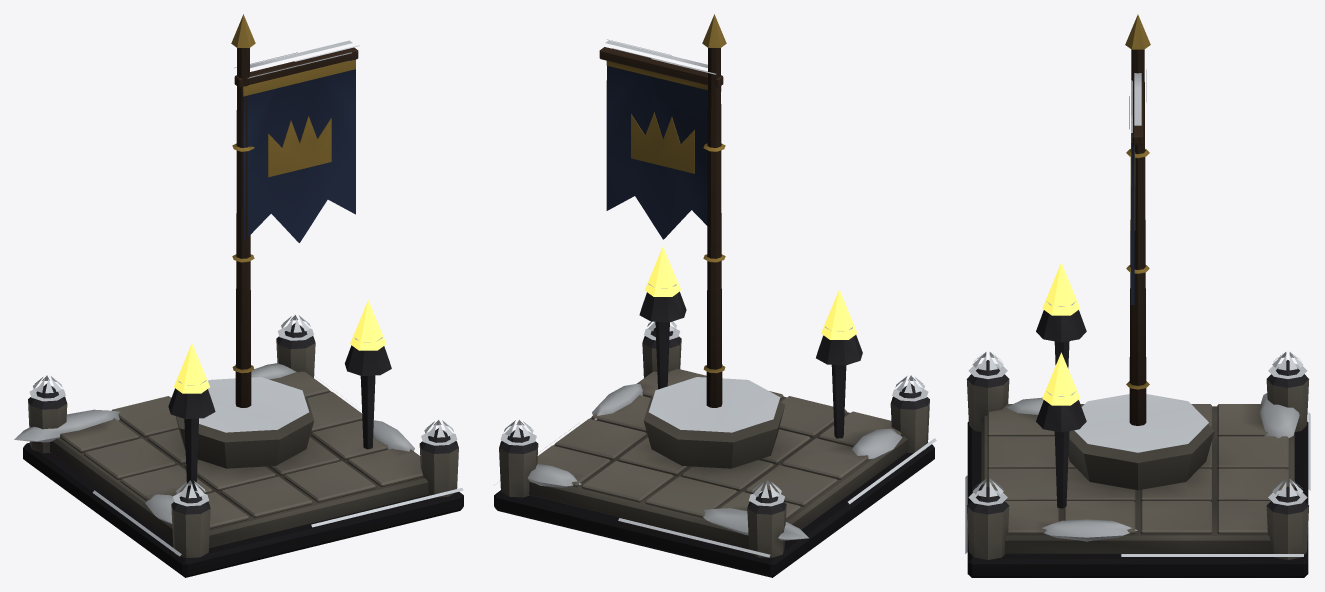
Rendered from alliance-7.glb.
The picture shows the model from 3 angles, left to right: view 1: azimuth 30°, elevation 25°; view 2: azimuth 150°, elevation 25°; view 3: azimuth 270°, elevation 25°; orthographic projection. The views are drawn at different scales.
Visible parts, largest first — view 1: aubeval_7_architecture, Feu1, Feu-1; view 2: aubeval_7_architecture, Feu-1, Feu1; view 3: aubeval_7_architecture, Feu1, Feu-1.
Part boxes in pixels (x1,y1,x2,y2): aubeval_7_architecture: (14,14,463,577); Feu1: (350,300,386,350); Feu-1: (174,343,209,393); aubeval_7_architecture: (494,14,936,577); Feu-1: (821,289,857,339); Feu1: (644,246,681,296); aubeval_7_architecture: (965,14,1310,577); Feu1: (1042,352,1080,405); Feu-1: (1042,262,1080,315).
Bounding box in the file's own units: 0.8655 × 1.28 × 0.811.
